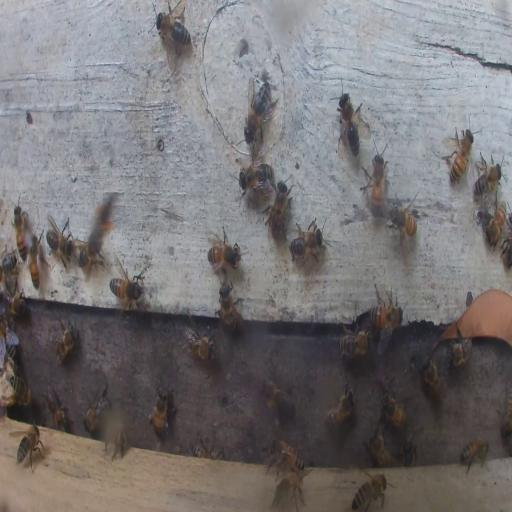bee: (244, 81, 278, 141), (156, 2, 192, 52), (88, 194, 118, 254), (363, 144, 387, 217), (444, 126, 474, 184), (264, 180, 292, 242), (386, 194, 419, 246), (337, 87, 361, 158), (12, 422, 44, 474), (45, 216, 74, 270), (368, 294, 404, 337), (470, 149, 502, 197), (289, 220, 325, 262), (182, 318, 216, 362), (83, 383, 111, 435), (207, 230, 240, 273), (108, 273, 144, 311), (260, 377, 296, 415), (262, 439, 301, 474), (324, 386, 355, 430), (238, 157, 274, 193), (366, 424, 394, 468), (353, 475, 388, 509), (219, 278, 240, 332), (459, 437, 490, 473), (380, 389, 407, 430), (54, 316, 78, 362), (272, 473, 306, 505), (338, 329, 372, 360), (486, 200, 508, 247), (46, 382, 68, 429), (150, 387, 169, 437), (421, 355, 443, 398), (498, 379, 512, 441), (77, 237, 103, 270), (6, 372, 31, 404), (446, 336, 472, 366), (12, 202, 26, 257), (27, 233, 41, 286), (6, 289, 27, 319), (106, 430, 128, 458), (2, 250, 17, 290), (0, 314, 17, 344), (402, 435, 417, 467), (498, 235, 512, 269), (192, 438, 214, 457), (4, 350, 16, 372)
